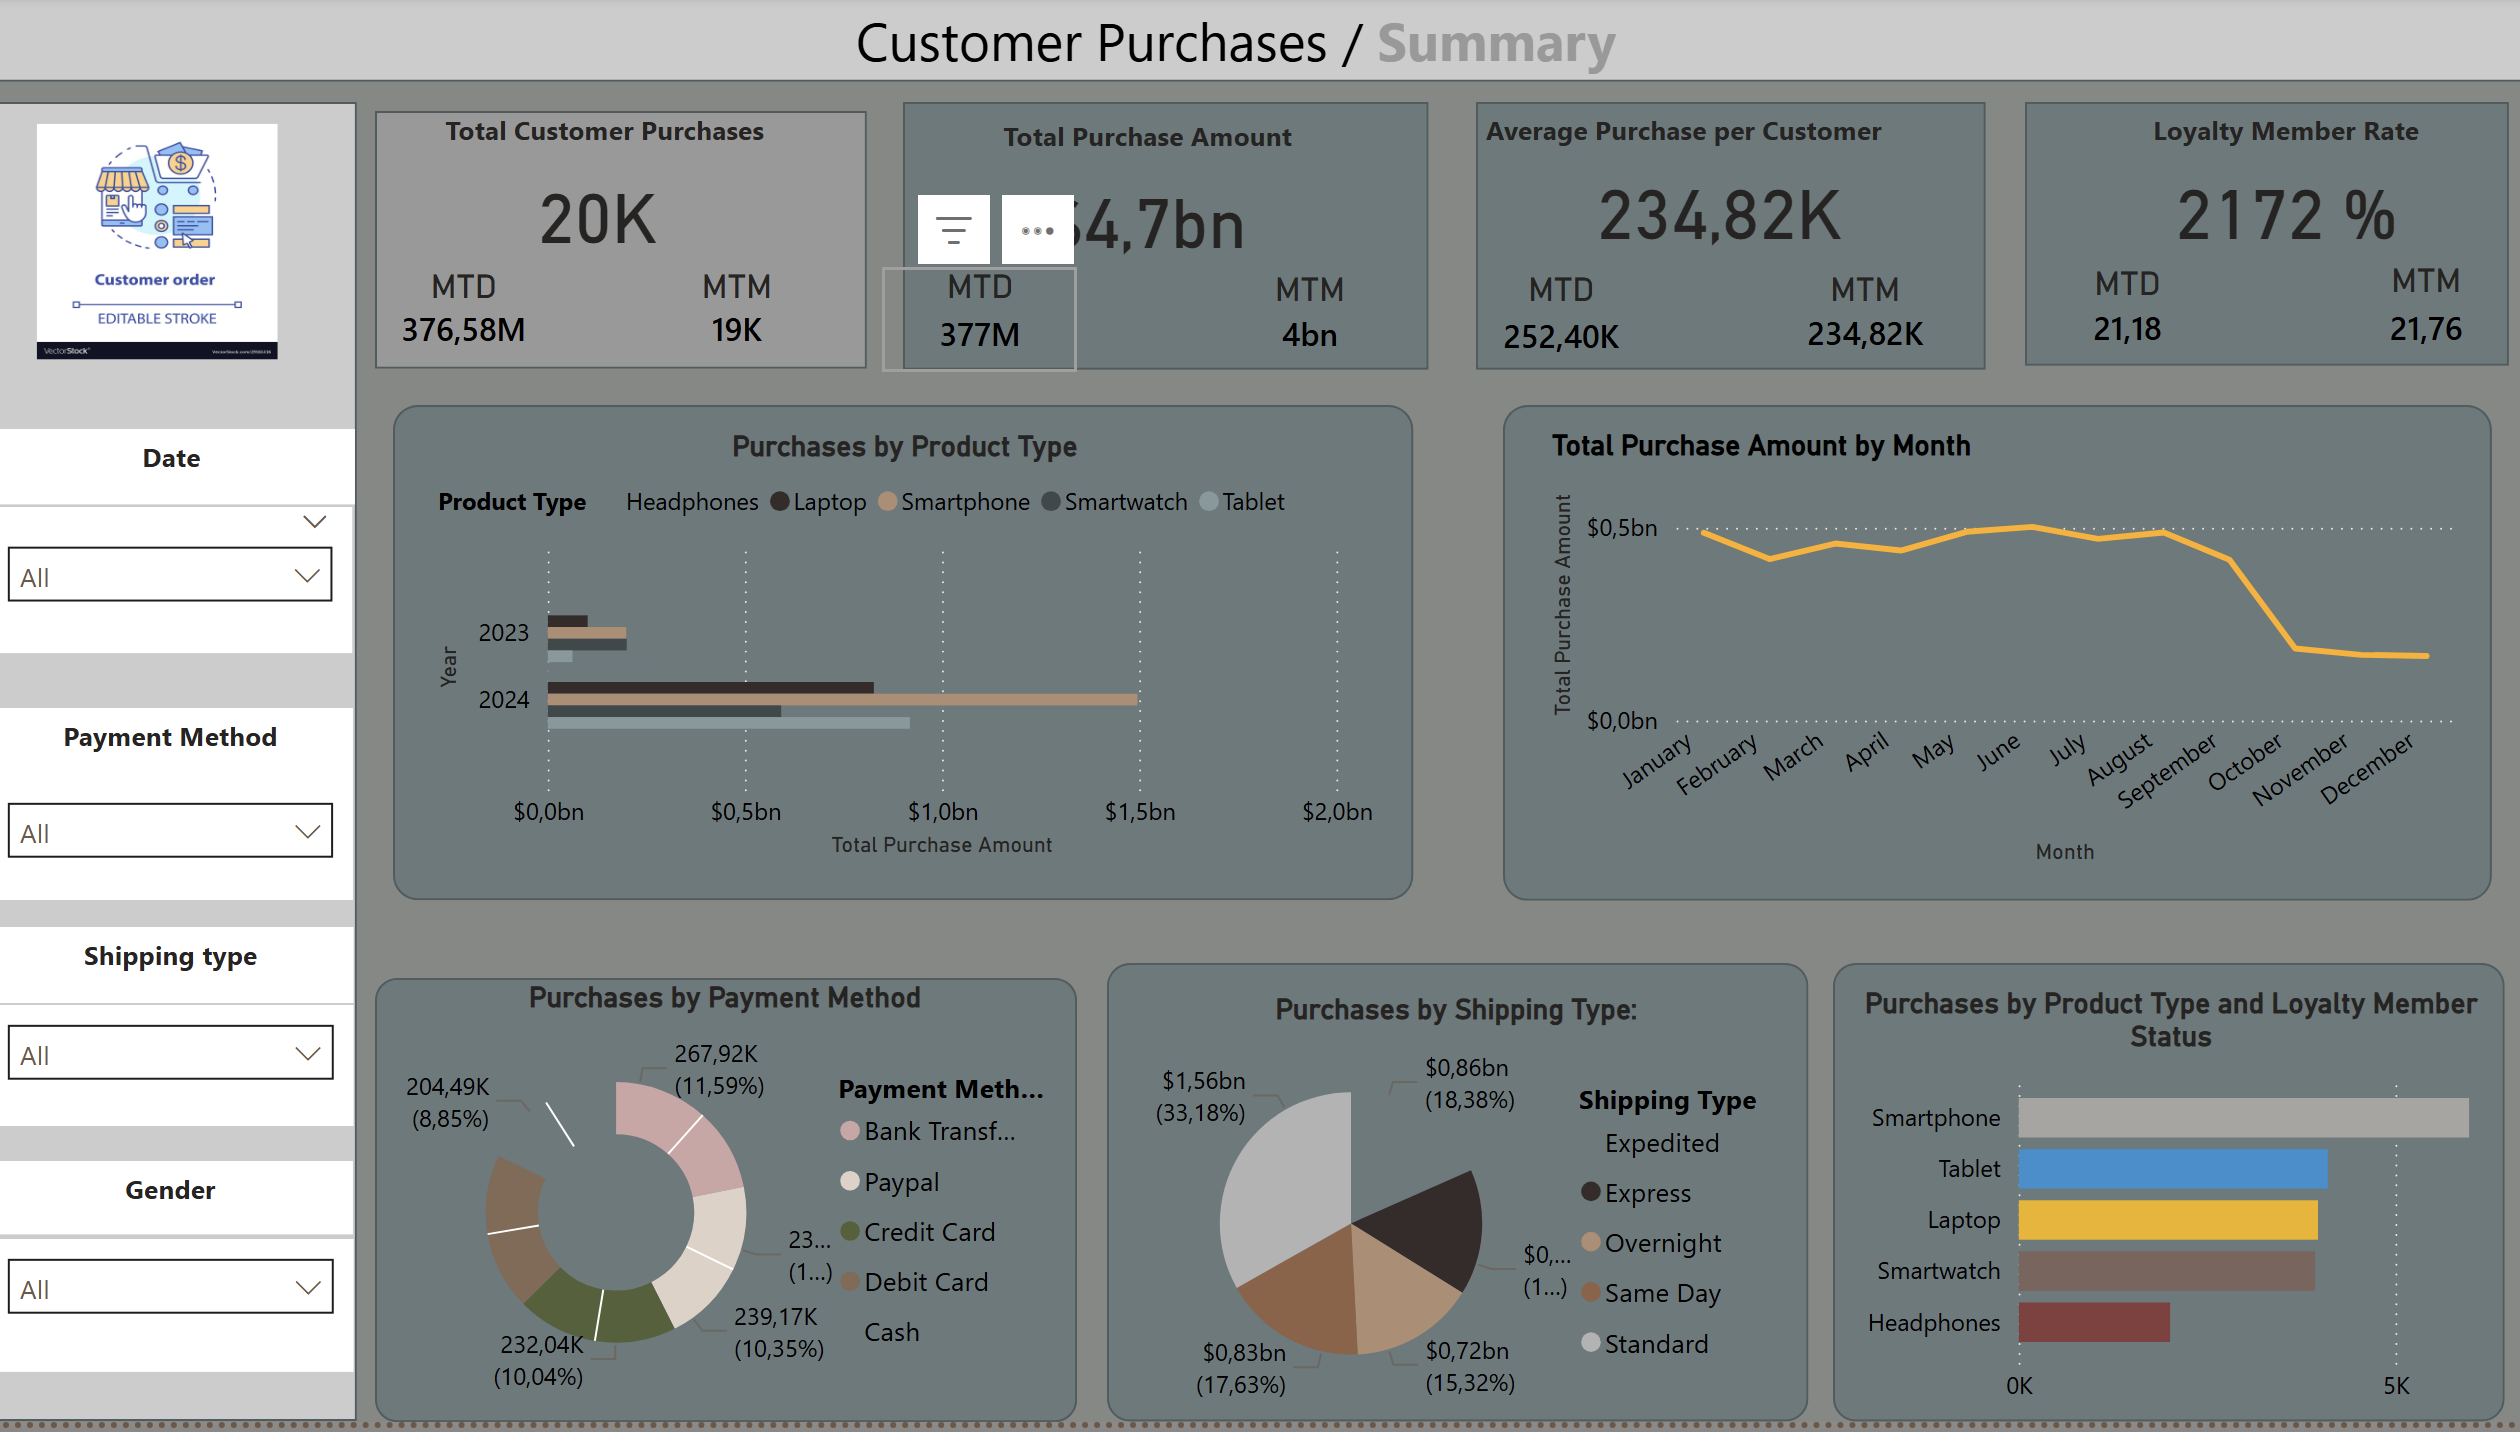

What the dashboard file says about the page in this screenshot:
{"tool":"powerbi","page":{"name":"Summary","canvas":[1280,720],"ordinal":0},"visuals":[{"type":"shape","box":[196,59,248,130],"z":0},{"type":"card","title":"Total Customer Purchases","fields":{"Values":["Customer purchase behavior - Electronic Sales Data.Total Customer Purchases"]},"box":[216.2,83.8,185,53.8],"z":1000},{"type":"shape","box":[0,0,1280,44.3],"z":2000},{"type":"shape","box":[0,55,187.5,665],"z":3000},{"type":"textbox","box":[434.3,0,614.3,54.3],"z":4000},{"type":"textbox","box":[178,55,268,54],"z":5000},{"type":"card","title":"MTD","fields":{"Values":["Customer purchase behavior - Electronic Sales Data.Month to date"]},"box":[187.5,137.5,107.5,47.5],"z":6000},{"type":"shape","box":[463,54,265,135],"z":7000},{"type":"card","title":"MTM","fields":{"Values":["Customer purchase behavior - Electronic Sales Data.1.(MoM)"]},"box":[322.5,137.5,113.8,47.5],"z":8000},{"type":"card","title":"Total Customer Purchases","fields":{"Values":["Customer purchase behavior - Electronic Sales Data.Total Purchase Amount"]},"box":[493.1,86,184.9,53],"z":9000},{"type":"card","title":"MTD","fields":{"Values":["Customer purchase behavior - Electronic Sales Data.2. MTD Total Purchase Amount"]},"box":[452.5,137.5,98.8,52.5],"z":10000},{"type":"card","title":"MTM","fields":{"Values":["Customer purchase behavior - Electronic Sales Data.2.MoM_Total_Purchase_Amount"]},"box":[618.8,138.8,98.8,50],"z":11000},{"type":"textbox","box":[452.9,57.3,268,54.5],"z":12000},{"type":"shape","box":[752,54,257,135],"z":13000},{"type":"card","title":"Total Customer Purchases","fields":{"Values":["Customer purchase behavior - Electronic Sales Data.Average Purchase per Customer"]},"box":[782.6,81.7,184.9,53],"z":14000},{"type":"card","title":"MTD","fields":{"Values":["Customer purchase behavior - Electronic Sales Data.3.MTD Average Purchase per Customer"]},"box":[741,139,107,52],"z":15000},{"type":"card","title":"MTM","fields":{"Values":["Customer purchase behavior - Electronic Sales Data.Average Spending by Payment Method"]},"box":[899,139,99,49],"z":16000},{"type":"shape","box":[1028,54,244,133],"z":17000},{"type":"card","title":"Total Customer Purchases","fields":{"Values":["Customer purchase behavior - Electronic Sales Data.Loyalty Member Rate"]},"box":[1067.9,81.7,184.9,53],"z":18000},{"type":"card","title":"MTD","fields":{"Values":["Customer purchase behavior - Electronic Sales Data.4.Loyalty Member Rate"]},"box":[1027.5,136.2,106.2,50],"z":19000},{"type":"card","title":"MTM","fields":{"Values":["Customer purchase behavior - Electronic Sales Data.4. MoM Loyalty Member Rate"]},"box":[1181,135,99,53],"z":20000},{"type":"textbox","box":[752,54,267,55],"z":21000},{"type":"textbox","box":[1039.2,54.5,242.2,54.5],"z":22000},{"type":"shape","box":[206.5,207.5,514.6,249.8],"z":23000},{"type":"shape","box":[765.7,207.1,498.6,250],"z":24000},{"type":"lineChart","fields":{"Y":["Customer purchase behavior - Electronic Sales Data.Total Purchase Amount"],"Category":["Date table.Date.Variation.Date Hierarchy.Month"]},"box":[785.7,220,464.3,224.3],"z":25000},{"type":"shape","box":[196,496,354,224],"z":26000},{"type":"shape","box":[565,488.8,353.8,231.2],"z":27000},{"type":"shape","box":[932.5,488.8,338.8,231.2],"z":28000},{"type":"donutChart","title":"Purchases by Payment Method","fields":{"Category":["Customer purchase behavior - Electronic Sales Data.Payment Method"],"Y":["Customer purchase behavior - Electronic Sales Data.Average Spending by Payment Method"],"Series":["Customer purchase behavior - Electronic Sales Data.Loyalty Member"]},"box":[201,497,344,217],"z":29000},{"type":"clusteredBarChart","title":"Purchases by Product Type","fields":{"Category":["Date table.Date.Variation.Date Hierarchy.Year"],"Y":["Customer purchase behavior - Electronic Sales Data.Total Purchase Amount"],"Series":["Customer purchase behavior - Electronic Sales Data.Product Type"]},"box":[222.9,217.1,480,227.1],"z":30000},{"type":"pieChart","title":"Purchases by Shipping Type:","fields":{"Category":["Customer purchase behavior - Electronic Sales Data.Shipping Type","Date table.Date.Variation.Date Hierarchy.Month"],"Y":["Customer purchase behavior - Electronic Sales Data.Total Purchase Amount"]},"box":[569,504,346,216],"z":31000},{"type":"clusteredBarChart","title":"Purchases by Product Type and Loyalty Member Status","fields":{"Y":["Customer purchase behavior - Electronic Sales Data.Total_Purchases"],"Category":["Customer purchase behavior - Electronic Sales Data.Rating","Customer purchase behavior - Electronic Sales Data.Product Type"]},"box":[939,501,326,219],"z":32000},{"type":"slicer","fields":{"Values":["Date table.Date.Variation.Date Hierarchy.Year","Date table.Date.Variation.Date Hierarchy.Quarter","Date table.Date.Variation.Date Hierarchy.Month","Date table.Date.Variation.Date Hierarchy.Day"]},"box":[1.2,258.8,183.8,73.8],"z":33000},{"type":"textbox","box":[0.8,470.8,184.2,38.3],"z":34000},{"type":"textbox","box":[1,360,184,38],"z":35000},{"type":"textbox","box":[1,220,185,38],"z":36000},{"type":"slicer","fields":{"Values":["Customer purchase behavior - Electronic Sales Data.Payment Method"]},"box":[1,398,184,59],"z":37000},{"type":"slicer","fields":{"Values":["Customer purchase behavior - Electronic Sales Data.Shipping Type"]},"box":[0.8,509.2,184.2,60.8],"z":38000},{"type":"image","box":[21.2,61.2,131.2,128.8],"z":39000},{"type":"textbox","box":[1,589,184,37],"z":40000},{"type":"slicer","fields":{"Values":["Customer purchase behavior - Electronic Sales Data.Gender"]},"box":[1.4,627.1,184.3,67.1],"z":40001}]}

Visuals, with their boxes in screenshot pixels (x1, y1, x2, y2), scaled from the page's 1280x720 canvas onto the 2520x1432 screenshot:
shape: <box>386,117,874,376</box>
"Total Customer Purchases" card: <box>426,167,790,274</box>
shape: <box>0,0,2519,88</box>
shape: <box>0,109,369,1431</box>
textbox: <box>855,0,2064,108</box>
textbox: <box>350,109,878,217</box>
"MTD" card: <box>369,273,581,368</box>
shape: <box>912,107,1433,376</box>
"MTM" card: <box>635,273,859,368</box>
"Total Customer Purchases" card: <box>971,171,1335,276</box>
"MTD" card: <box>891,273,1085,378</box>
"MTM" card: <box>1218,276,1413,376</box>
textbox: <box>892,114,1419,222</box>
shape: <box>1480,107,1986,376</box>
"Total Customer Purchases" card: <box>1541,162,1905,268</box>
"MTD" card: <box>1459,276,1670,380</box>
"MTM" card: <box>1770,276,1965,374</box>
shape: <box>2024,107,2504,372</box>
"Total Customer Purchases" card: <box>2102,162,2466,268</box>
"MTD" card: <box>2023,271,2232,370</box>
"MTM" card: <box>2325,268,2519,374</box>
textbox: <box>1480,107,2006,217</box>
textbox: <box>2046,108,2519,217</box>
shape: <box>407,413,1420,910</box>
shape: <box>1507,412,2489,909</box>
lineChart - Customer purchase behavior - Electronic Sales Data.Total Purchase Amount x Date table.Date.Variation.Date Hierarchy.Month: <box>1547,438,2461,884</box>
shape: <box>386,986,1083,1431</box>
shape: <box>1112,972,1809,1431</box>
shape: <box>1836,972,2503,1431</box>
"Purchases by Payment Method" donutChart: <box>396,988,1073,1420</box>
"Purchases by Product Type" clusteredBarChart: <box>439,432,1384,883</box>
"Purchases by Shipping Type:" pieChart: <box>1120,1002,1801,1431</box>
"Purchases by Product Type and Loyalty Member Status" clusteredBarChart: <box>1849,996,2490,1431</box>
slicer - Date table.Date.Variation.Date Hierarchy.Year x Date table.Date.Variation.Date Hierarchy.Quarter: <box>2,515,364,662</box>
textbox: <box>2,936,364,1013</box>
textbox: <box>2,716,364,792</box>
textbox: <box>2,438,366,513</box>
slicer - Customer purchase behavior - Electronic Sales Data.Payment Method: <box>2,792,364,909</box>
slicer - Customer purchase behavior - Electronic Sales Data.Shipping Type: <box>2,1013,364,1134</box>
image: <box>42,122,300,378</box>
textbox: <box>2,1171,364,1245</box>
slicer - Customer purchase behavior - Electronic Sales Data.Gender: <box>3,1247,366,1381</box>
